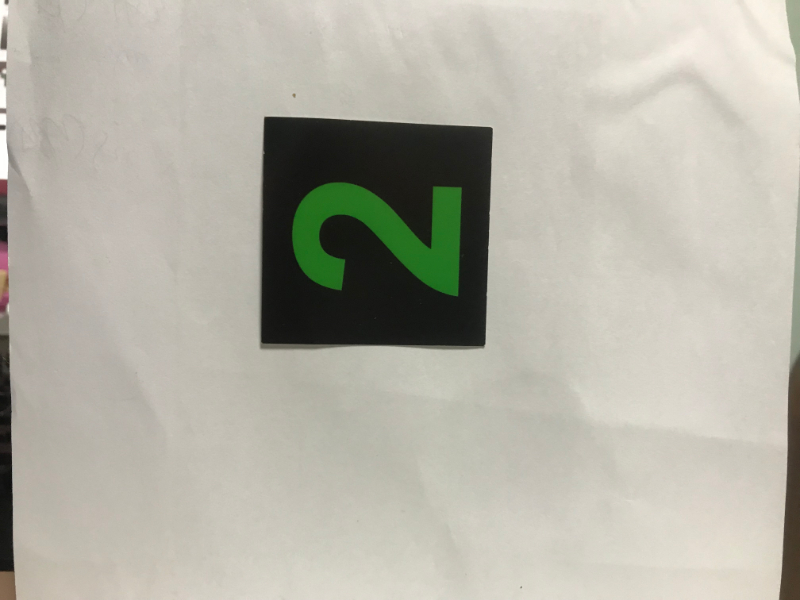Two-7: (266, 128, 484, 343)
